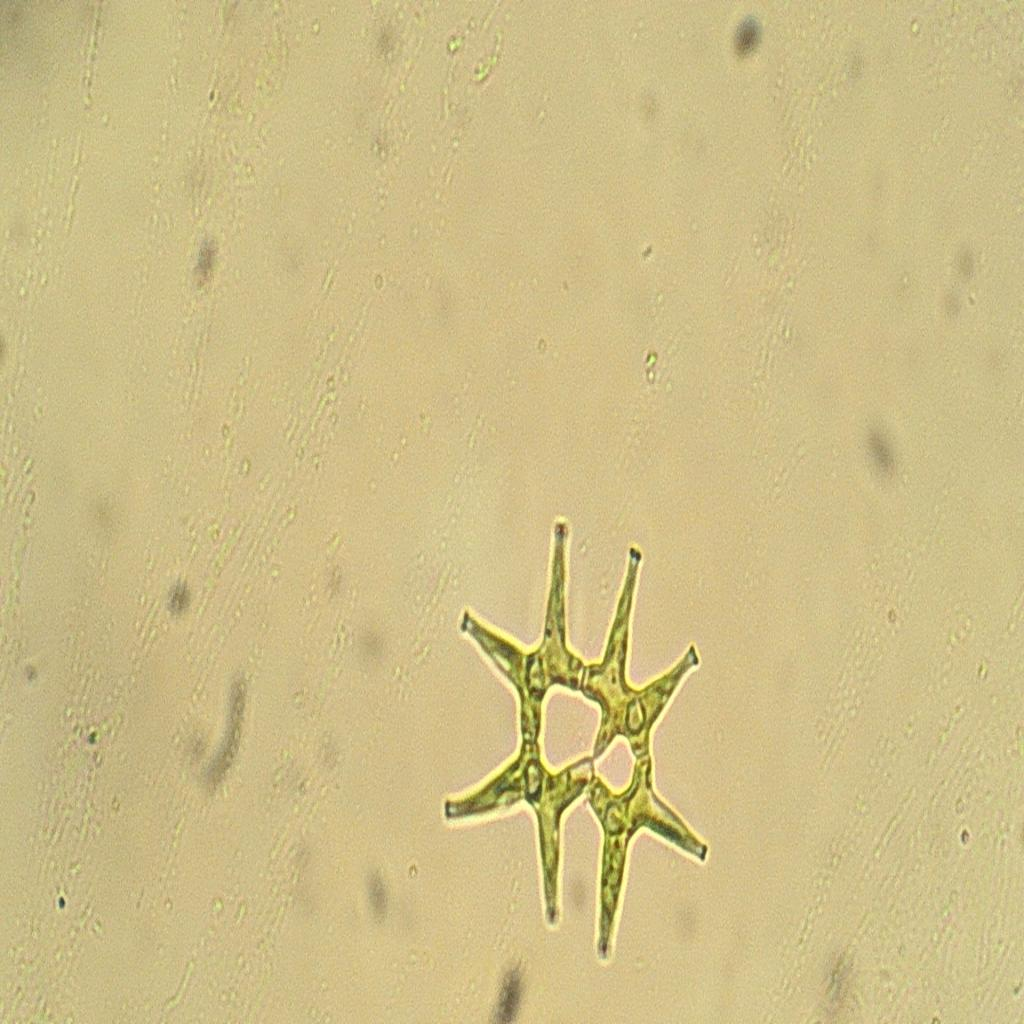Pediastrum_75FO: (428, 506, 725, 967)
